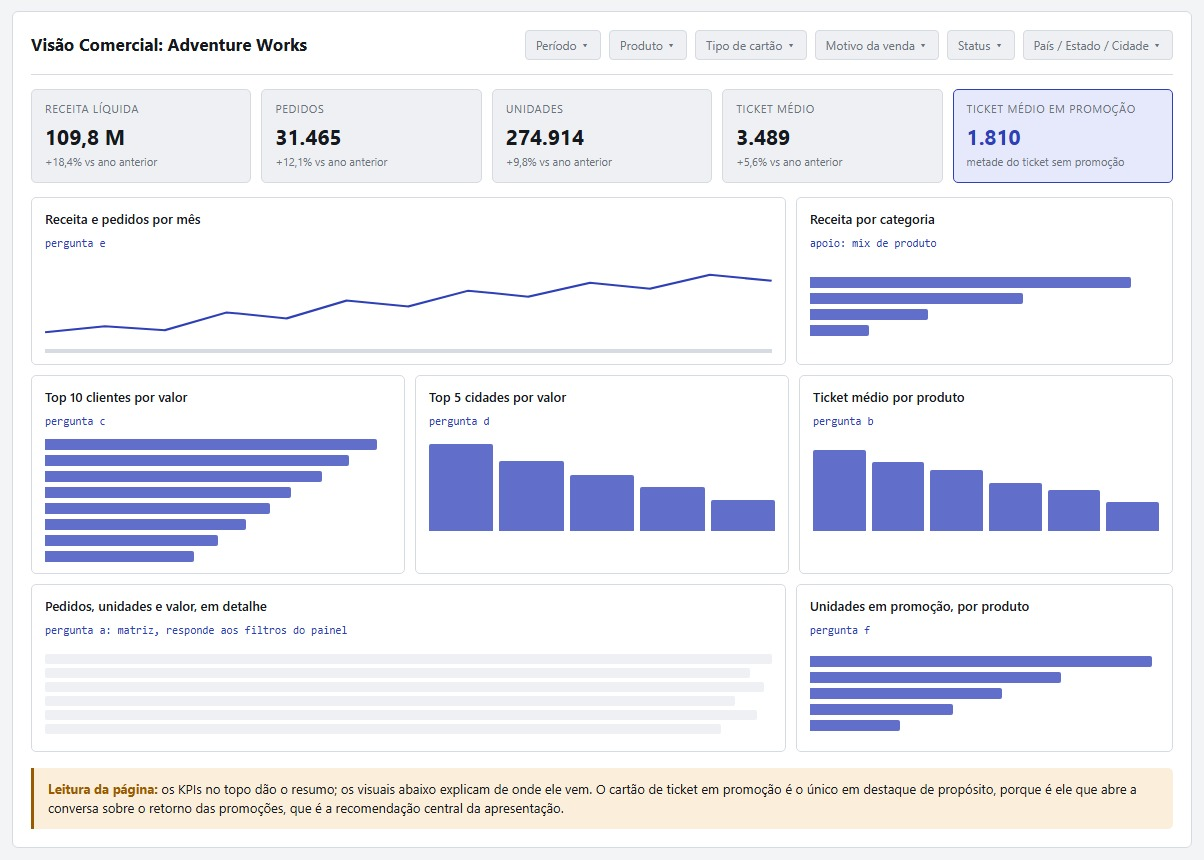

Layout of this report page (visuals, bound fields, positions):
{"tool":"powerbi","page":{"name":"Página 1","canvas":[1920,1080],"ordinal":0},"visuals":[{"type":"cardVisual","fields":{"Data":["_Medidas.Receita Liquida","_Medidas.Pedidos","_Medidas.Unidades","_Medidas.Ticket Medio"]},"box":[12,180,1896,116],"z":0},{"type":"lineChart","title":"Receita e Pedidos por Mês","fields":{"Category":["dim_date.year_month"],"Y":["_Medidas.Receita Liquida"],"Y2":["_Medidas.Pedidos"]},"box":[12,308,942,336],"z":1000},{"type":"pivotTable","title":"Pedidos, Unidades e Receita por Produto","fields":{"Rows":["dim_product.product_name"],"Values":["_Medidas.Pedidos","_Medidas.Unidades","_Medidas.Receita Liquida"]},"box":[966,308,942,336],"z":2000},{"type":"clusteredBarChart","title":"Top 10 Clientes por Receita","fields":{"Category":["dim_customer.customer_name"],"Y":["_Medidas.Receita Liquida"]},"box":[12,656,465,412],"z":3000},{"type":"clusteredColumnChart","title":"Top 5 Cidades por Receita","fields":{"Category":["dim_geography.city"],"Y":["_Medidas.Receita Liquida"]},"box":[489,656,465,412],"z":4000},{"type":"clusteredColumnChart","title":"Top 10 Produtos por Ticket Médio","fields":{"Category":["dim_product.product_name"],"Y":["_Medidas.Ticket Medio"]},"box":[966,656,465,412],"z":5000},{"type":"clusteredBarChart","title":"Top 10 Produtos Vendidos em Promoção","fields":{"Category":["dim_product.product_name"],"Y":["_Medidas.Unidades em Promocao"]},"box":[1443,656,465,412],"z":6000},{"type":"slicer","fields":{"Values":["dim_date.year_number"]},"box":[12,96,306,72],"z":7000},{"type":"slicer","fields":{"Values":["dim_product.category_name"]},"box":[330,96,306,72],"z":8000},{"type":"slicer","fields":{"Values":["dim_credit_card.card_type"]},"box":[648,96,306,72],"z":9000},{"type":"slicer","fields":{"Values":["dim_sales_reason.sales_reason_name"]},"box":[966,96,306,72],"z":10000},{"type":"slicer","fields":{"Values":["dim_order_status.status_name"]},"box":[1284,96,306,72],"z":11000},{"type":"slicer","fields":{"Values":["dim_geography.country"]},"box":[1602,96,306,72],"z":12000},{"type":"textbox","box":[0,0,1920,84],"z":12001}]}

Visuals, with their boxes on the page's 1920x1080 design canvas (x1, y1, x2, y2). These are canvas units, not pixel positions in the 1204x860 screenshot, which may show the page scaled, cropped or inside an application window:
cardVisual - _Medidas.Receita Liquida x _Medidas.Pedidos: (left=12, top=180, right=1908, bottom=296)
"Receita e Pedidos por Mês" lineChart: (left=12, top=308, right=954, bottom=644)
"Pedidos, Unidades e Receita por Produto" pivotTable: (left=966, top=308, right=1908, bottom=644)
"Top 10 Clientes por Receita" clusteredBarChart: (left=12, top=656, right=477, bottom=1068)
"Top 5 Cidades por Receita" clusteredColumnChart: (left=489, top=656, right=954, bottom=1068)
"Top 10 Produtos por Ticket Médio" clusteredColumnChart: (left=966, top=656, right=1431, bottom=1068)
"Top 10 Produtos Vendidos em Promoção" clusteredBarChart: (left=1443, top=656, right=1908, bottom=1068)
slicer - dim_date.year_number: (left=12, top=96, right=318, bottom=168)
slicer - dim_product.category_name: (left=330, top=96, right=636, bottom=168)
slicer - dim_credit_card.card_type: (left=648, top=96, right=954, bottom=168)
slicer - dim_sales_reason.sales_reason_name: (left=966, top=96, right=1272, bottom=168)
slicer - dim_order_status.status_name: (left=1284, top=96, right=1590, bottom=168)
slicer - dim_geography.country: (left=1602, top=96, right=1908, bottom=168)
textbox: (left=0, top=0, right=1920, bottom=84)
